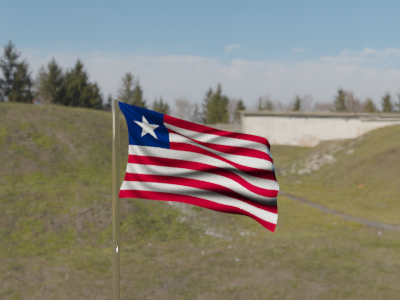Liberia flag: (112, 101, 284, 234)
